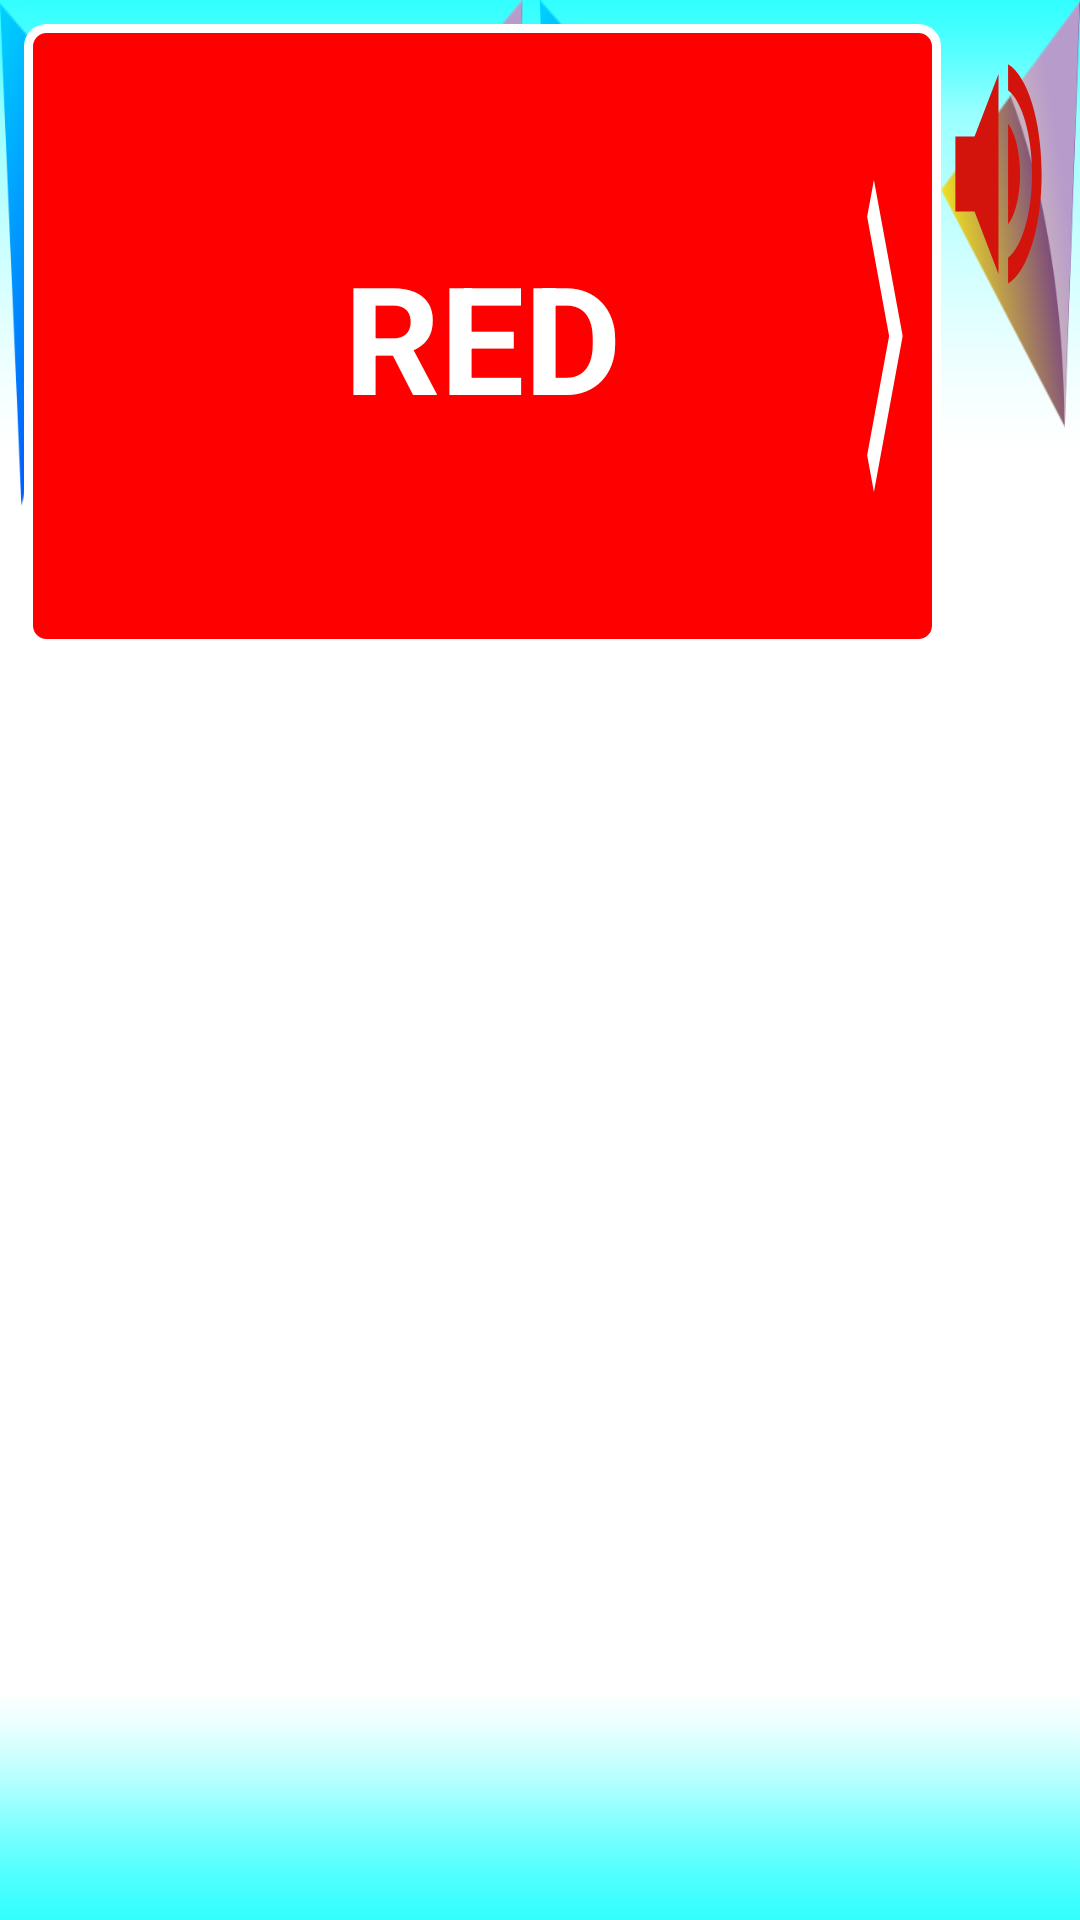

Point at icon controls on the screen. Image size 1080 x 1920, points as (x=x, y=y).
volume up: (x=998, y=174)
